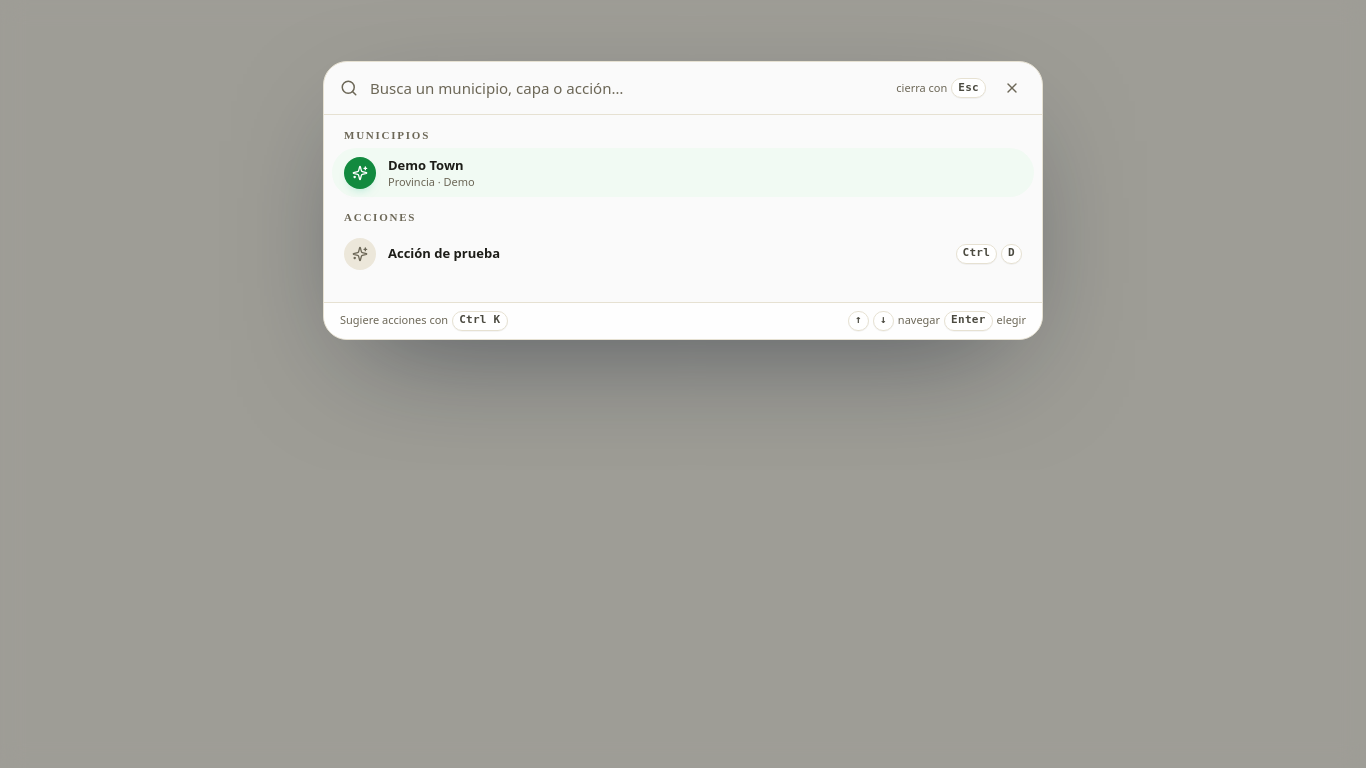
CommandPalette › muestra estado vacío cuando no hay resultados
This screenshot has width=1366, height=768.
In the search field: (627, 88) top-left (370, 77), bottom-right (884, 100), type "zzzzzz_no_match"
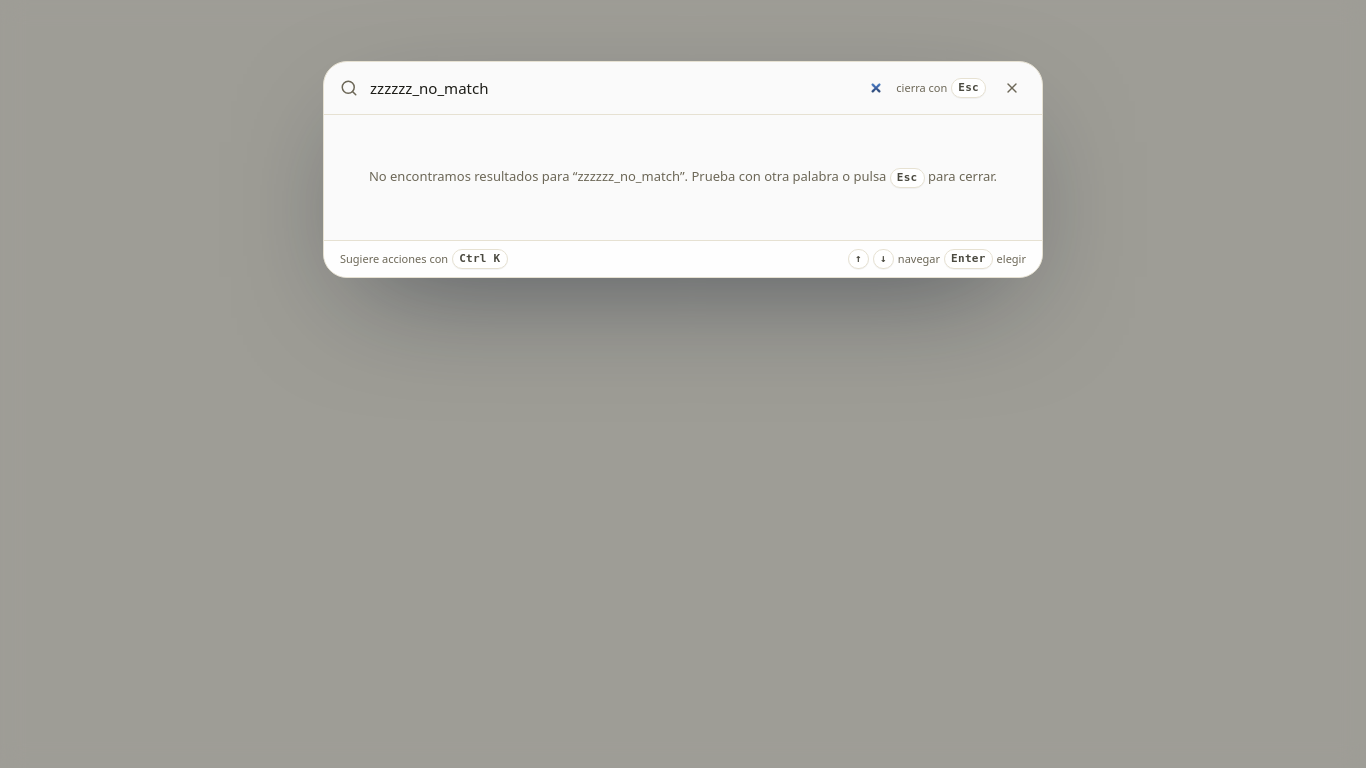
Result: the text "No encontramos resultados" is shown at top-left (369, 167), bottom-right (578, 185)
